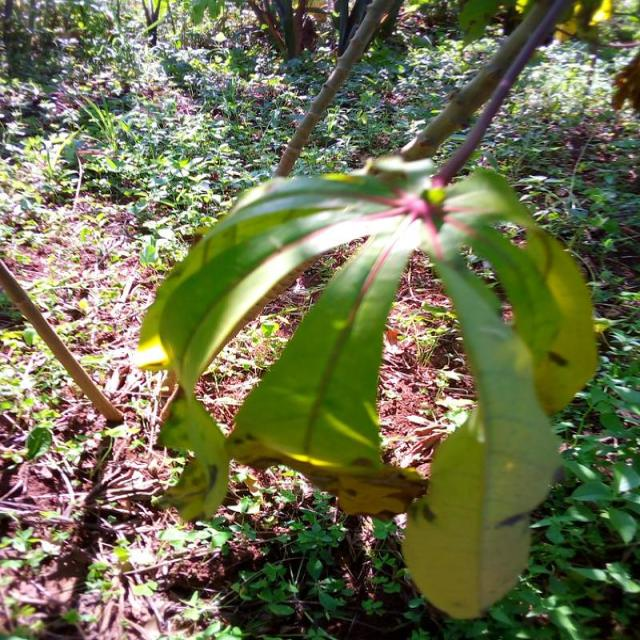cassava leaf: (133, 152, 598, 618)
